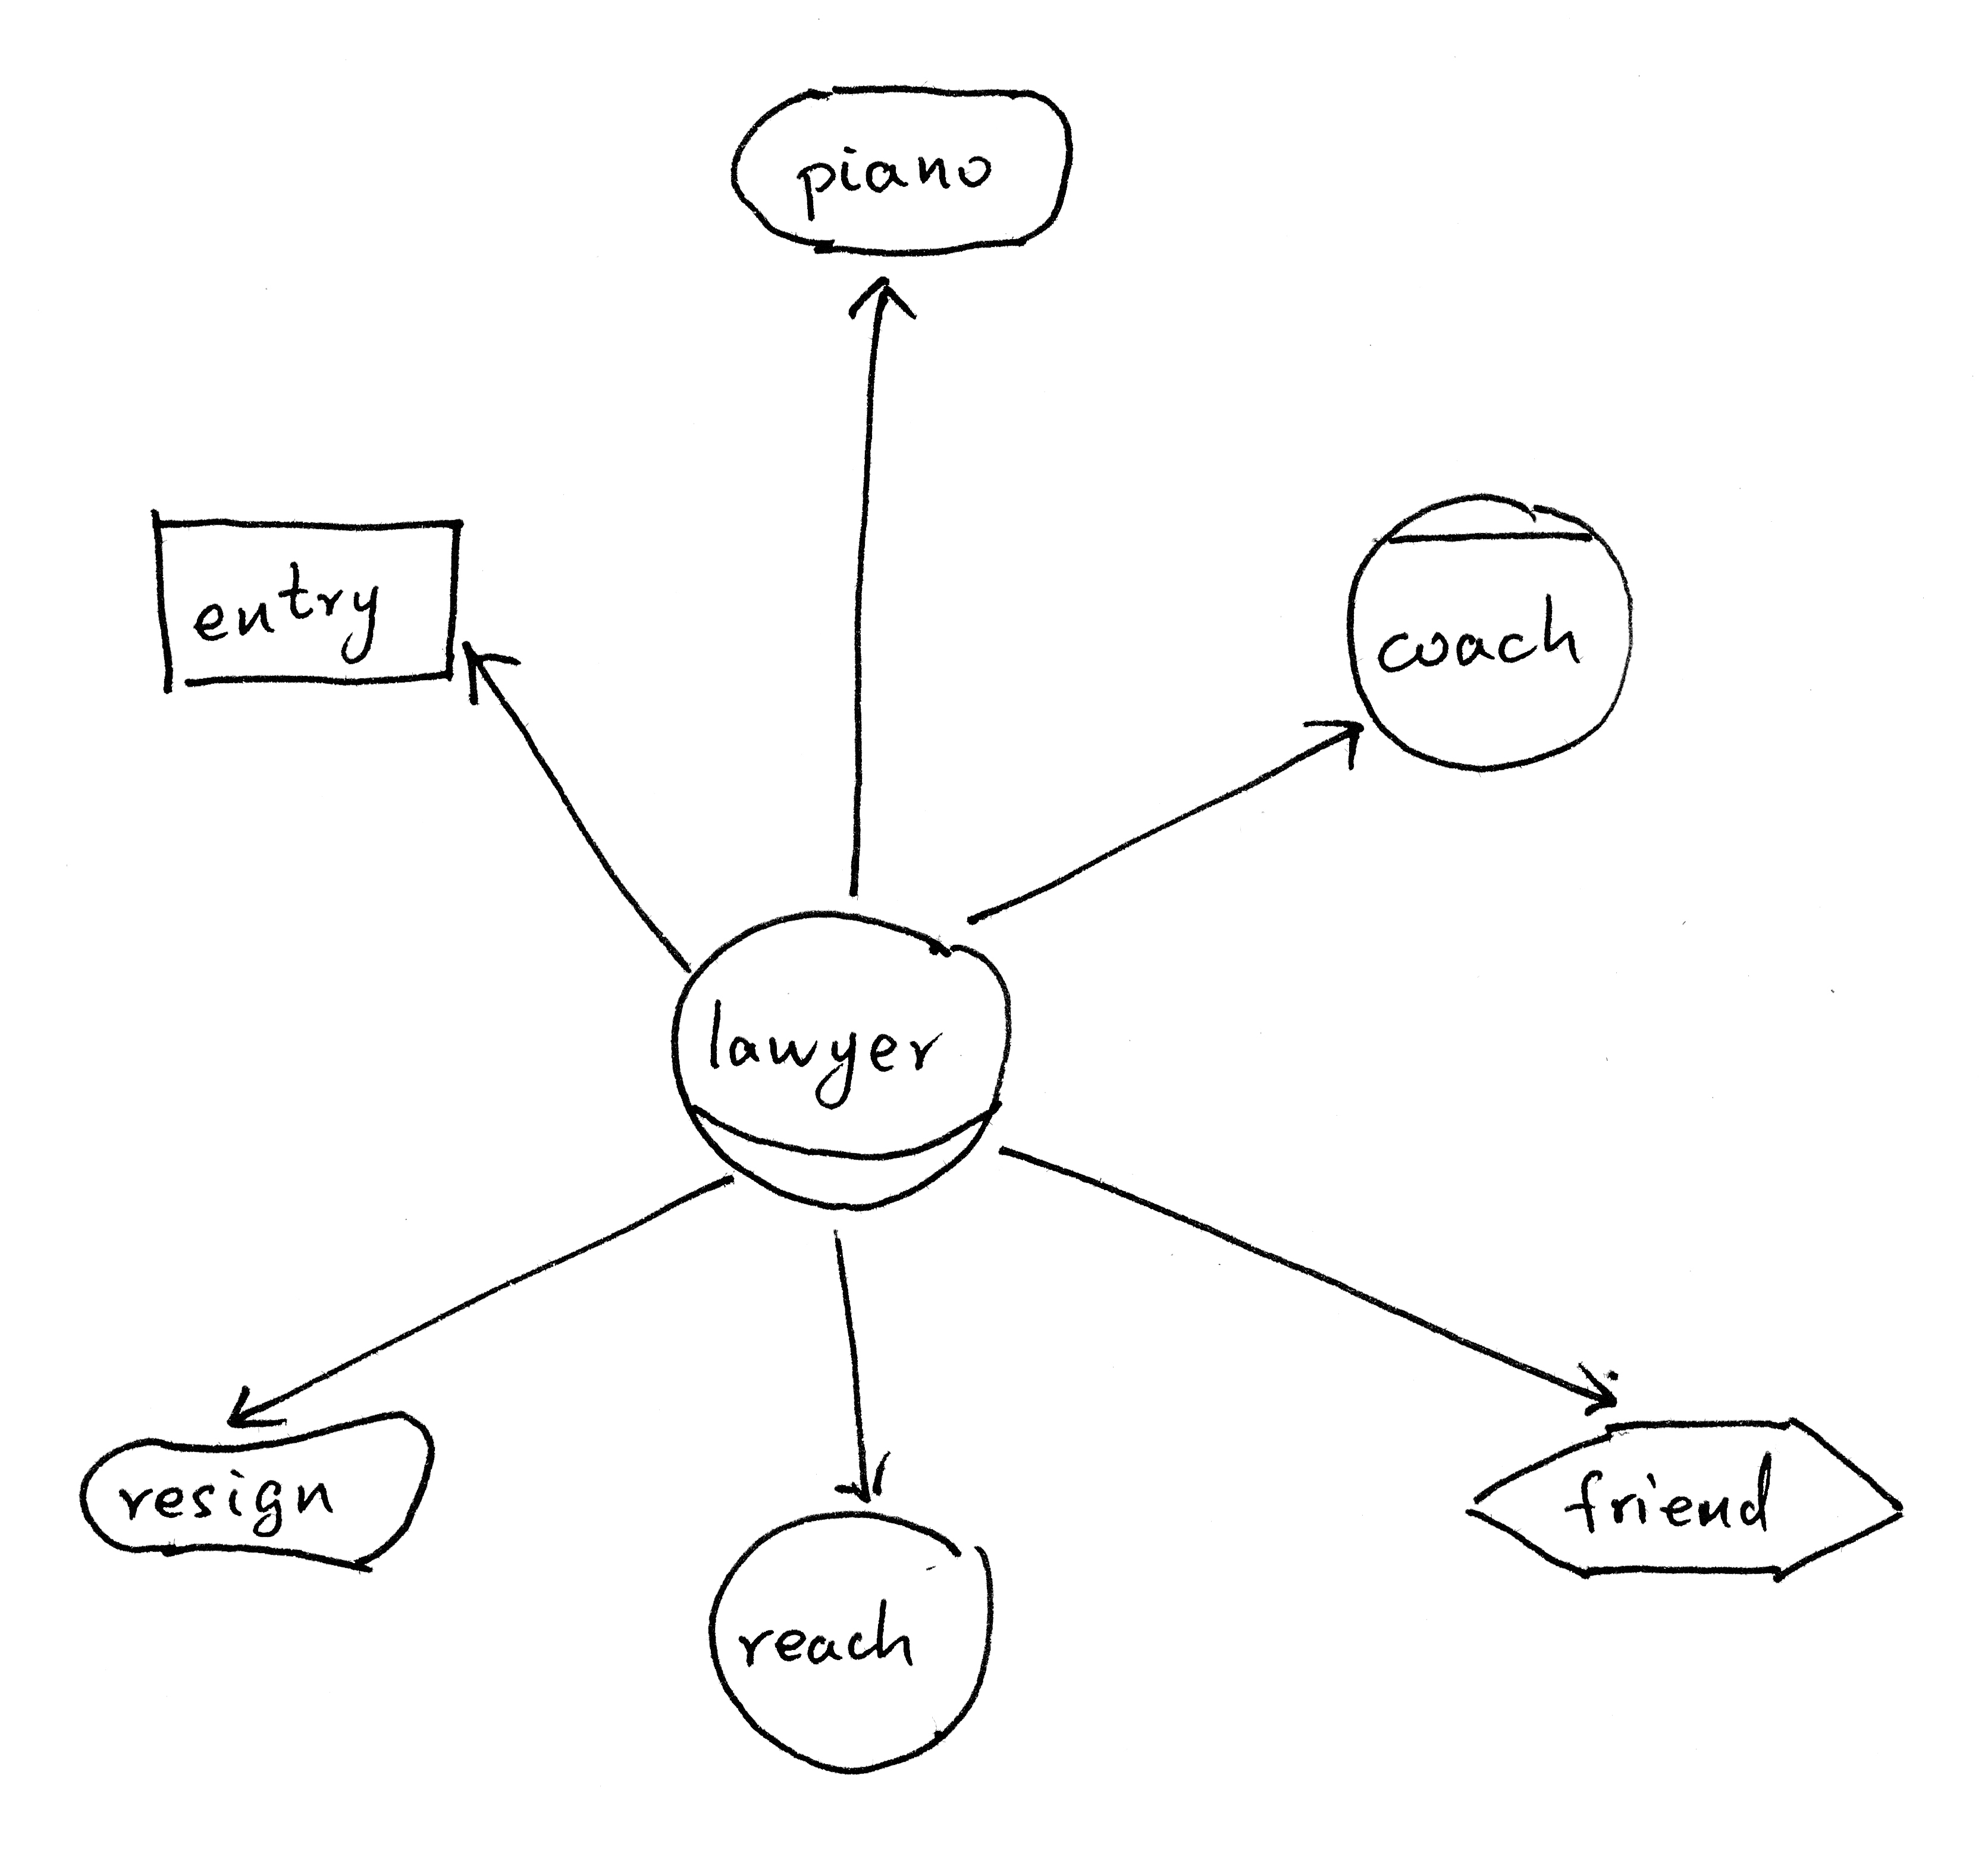actor: (694, 1493, 1022, 1783)
agent: (1331, 477, 1649, 787)
arrow: (805, 1435, 917, 1521), (1551, 1337, 1640, 1440), (440, 624, 528, 717), (1300, 696, 1380, 794), (210, 1371, 306, 1451), (840, 257, 921, 341)
goal: (714, 66, 1097, 276)
quality: (58, 1390, 454, 1589)
resource: (131, 482, 484, 710)
role: (655, 885, 1031, 1234)
task: (1459, 1402, 1927, 1601)
